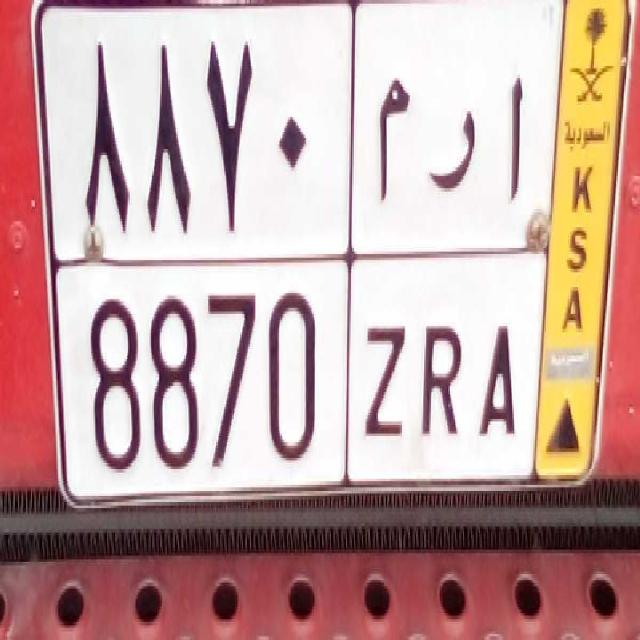license_plate: (58, 252, 536, 501)
